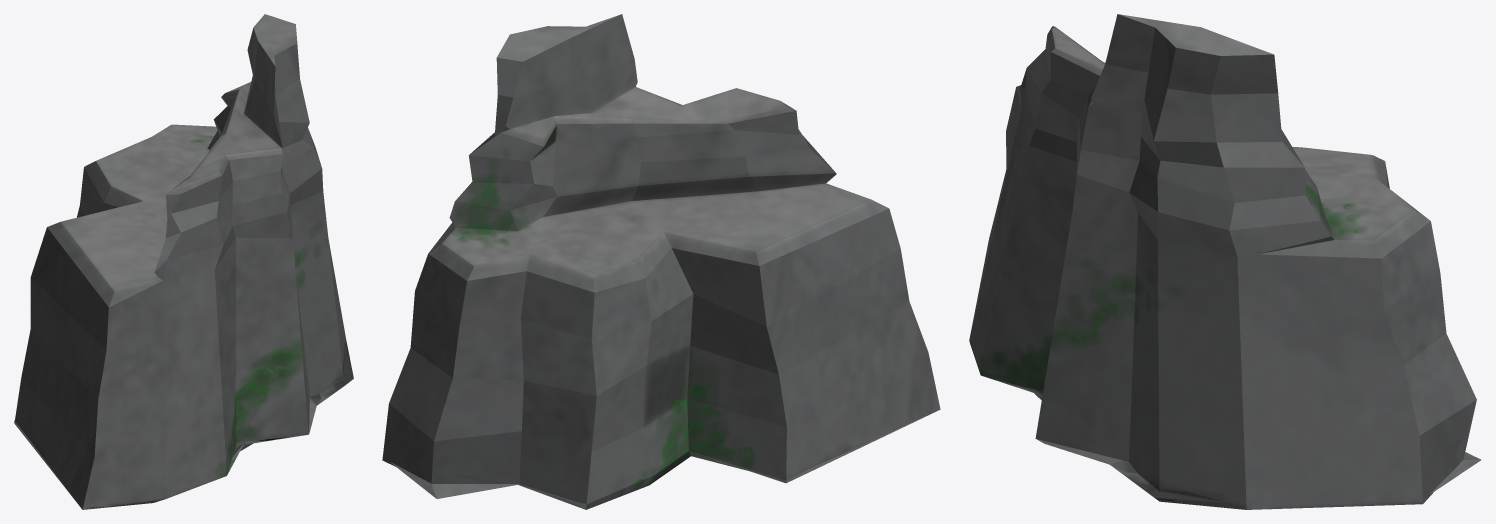
The model's file is batu 10.fbx.
3 views of the same model, side by side, from view 1: azimuth 30°, elevation 25°; view 2: azimuth 150°, elevation 25°; view 3: azimuth 270°, elevation 25° (orthographic). The views are drawn at different scales.
Parts seen in each view (by area): view 1: batu10; view 2: batu10; view 3: batu10.
Part boxes in pixels (box(x1,y1,x2,y2)): batu10: box(14, 14, 353, 509); batu10: box(382, 14, 940, 509); batu10: box(969, 14, 1481, 509).
Bounding box in the file's own units: 350 × 321 × 342.
